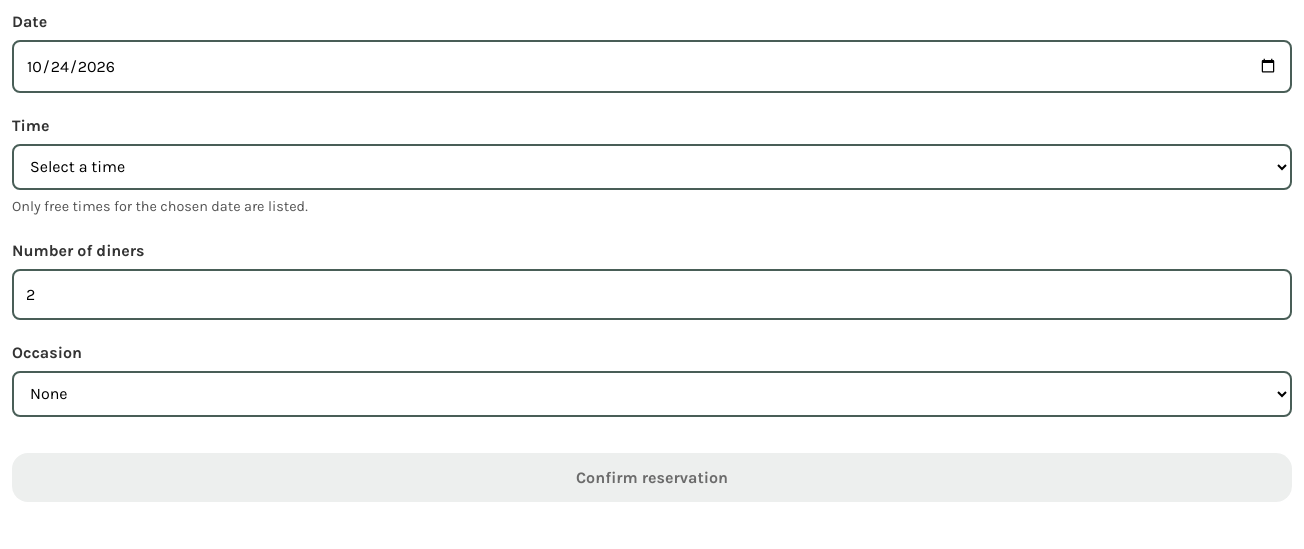
shows an error for a date in the past
The width and height of the screenshot is (1304, 549).
Type "2000-01-01" into the date field labelled "Date". click: {"x": 652, "y": 66}
box: [12,40,1292,93]
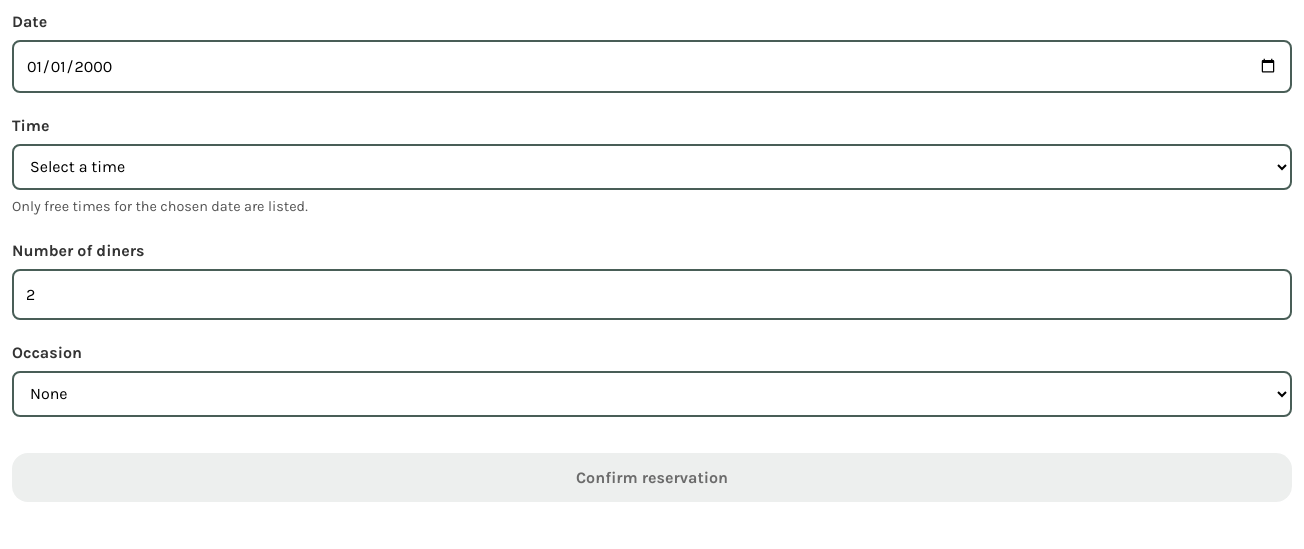
Leave the date field labelled "Date", box [12,40,1292,93]
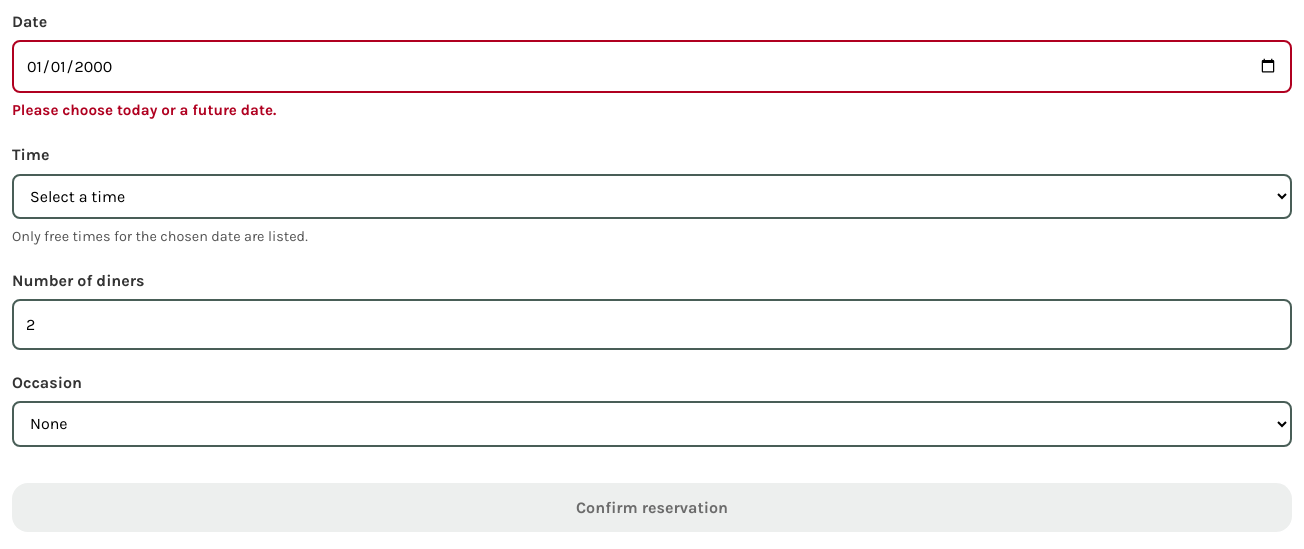
Expected: the button "Confirm reservation" is disabled, [12,483,1292,532]
Expected: the text "Please choose today or a future date." is shown, [12,101,276,119]
